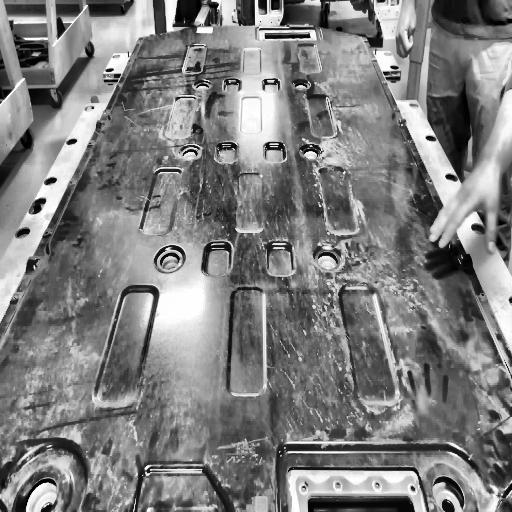b_casing: (0, 25, 512, 512)
